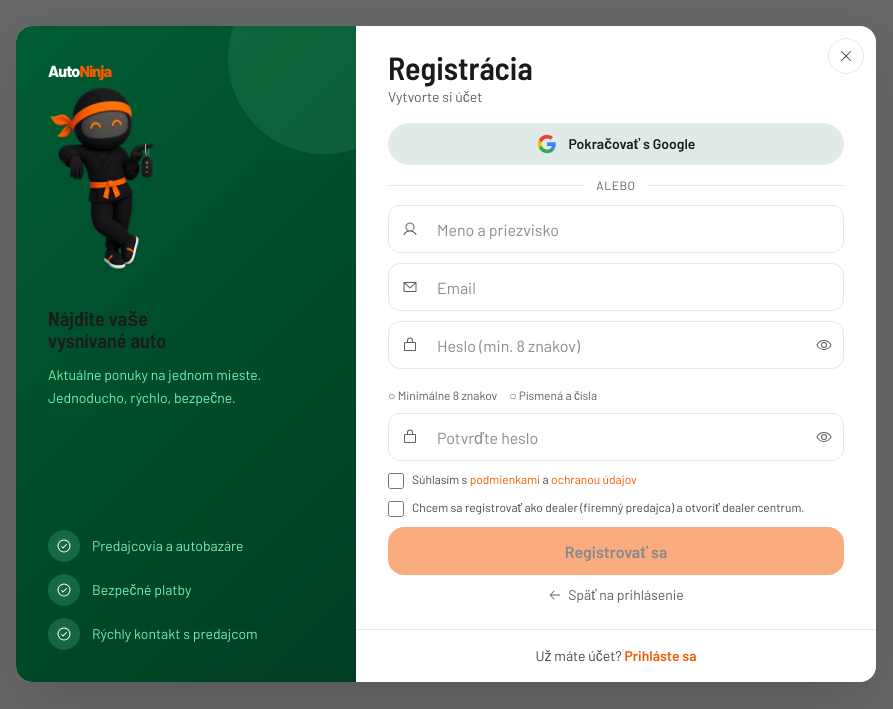
Scenario: AuthModal register password strength › shows weak strength for short simple password
This screenshot has width=893, height=709.
Step 1. Type "abc" into the password field with id "auth-register-password" → (616, 345), box [388,321,844,369]
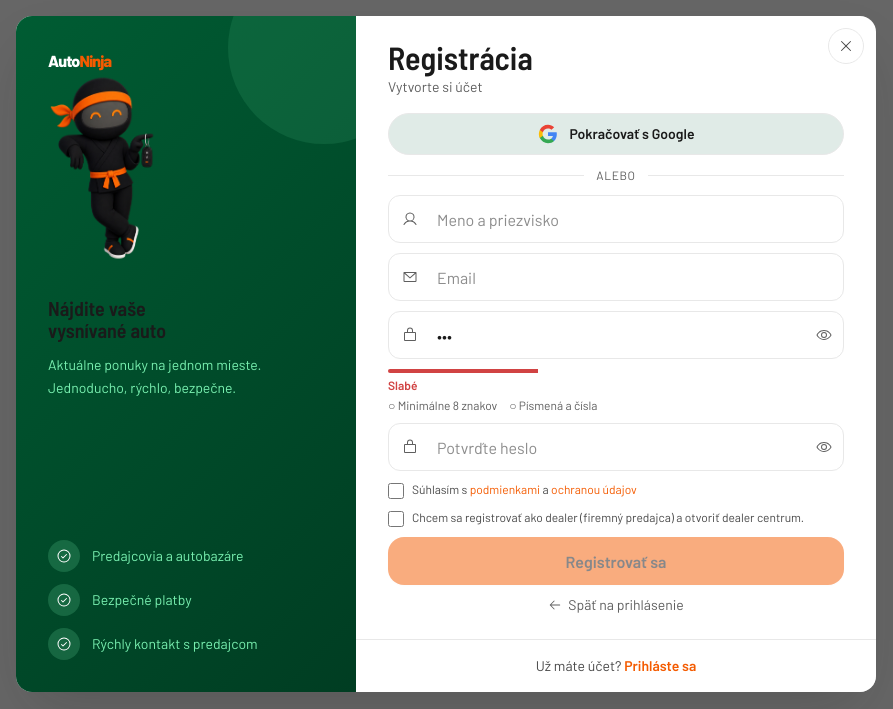
Expected: the text with test id "register-password-strength-label" reads "Slabé", [388,378,417,392]
Expected: the element with test id "register-password-strength-bar" is shown, [388,369,538,373]
